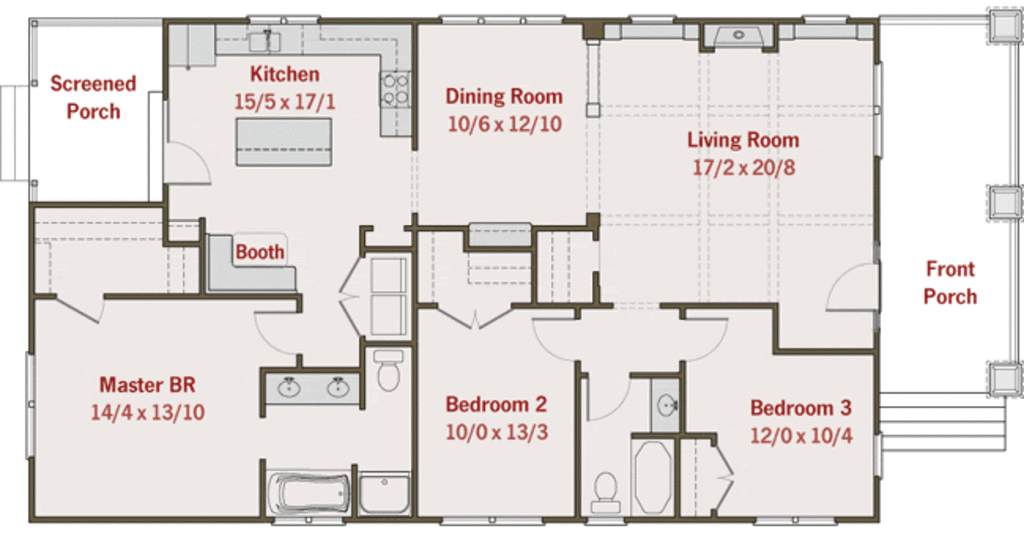door: (236, 294, 314, 358), (578, 367, 635, 432), (819, 261, 885, 316), (160, 130, 220, 190), (672, 307, 728, 369), (699, 428, 736, 515), (431, 299, 521, 334), (522, 304, 581, 357), (53, 278, 112, 330), (340, 249, 371, 342)
large_sink: (571, 464, 621, 523), (366, 339, 408, 393)
small_sink: (272, 368, 353, 404), (651, 376, 684, 432)
tub: (260, 460, 354, 515), (625, 436, 683, 520)
twin_sink: (246, 21, 301, 63)
window: (865, 64, 893, 164), (440, 10, 569, 30), (21, 344, 42, 460), (865, 423, 893, 480), (752, 510, 839, 528), (798, 9, 861, 29), (433, 513, 548, 522), (626, 6, 685, 23)
